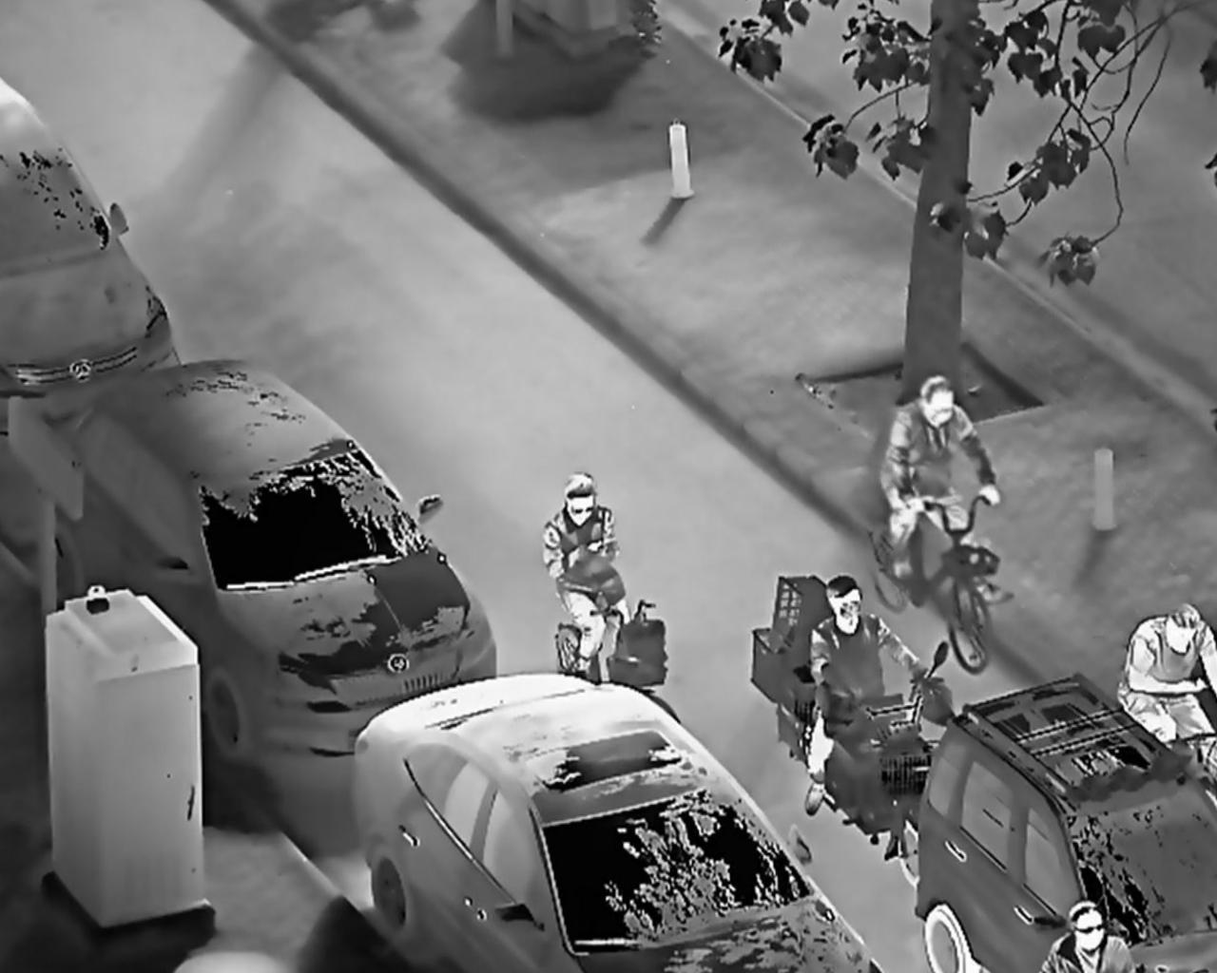person: (801, 577, 940, 819), (867, 372, 1005, 585), (543, 475, 634, 678), (1112, 600, 1217, 772)
